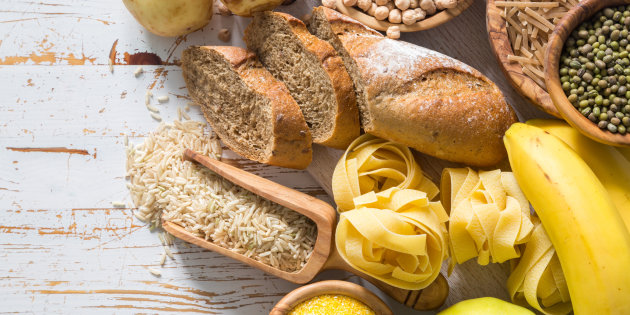plain rice: (123, 116, 323, 283)
plain spaghetti: (330, 135, 536, 290)
slice of bread: (244, 12, 360, 155), (185, 51, 322, 170)
